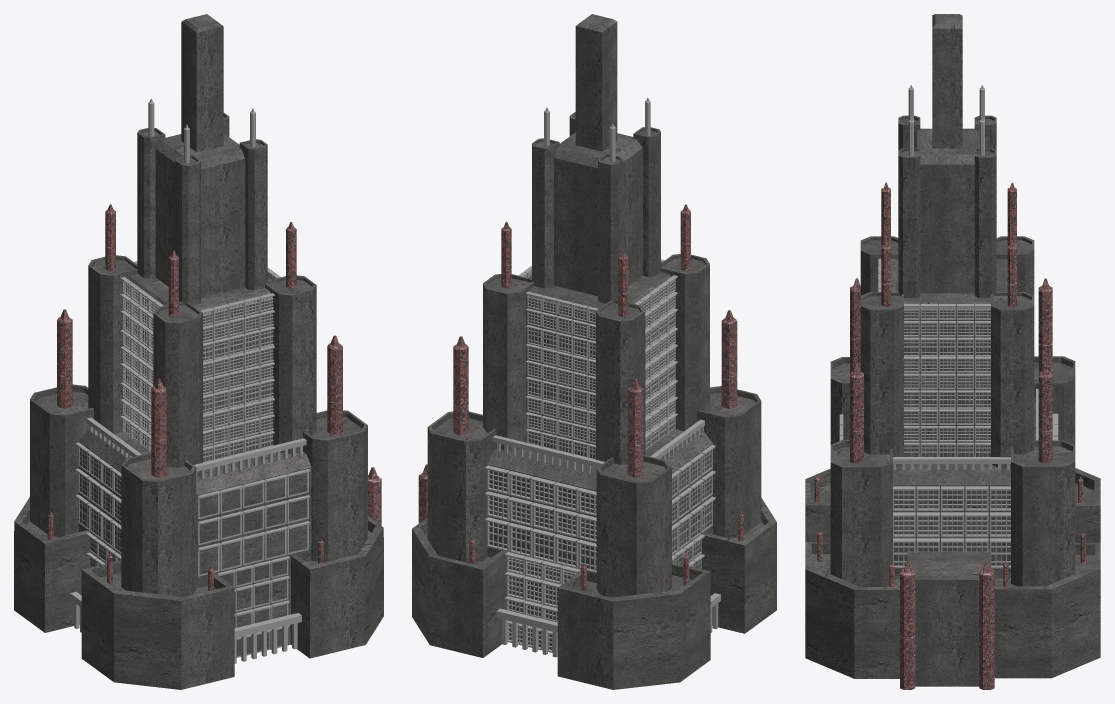
File: Kruchevka.fbx
The picture shows the model from 3 angles, left to right: view 1: azimuth 30°, elevation 25°; view 2: azimuth 150°, elevation 25°; view 3: azimuth 270°, elevation 25°; orthographic projection.
Parts seen in each view (by area): view 1: WORKERS_KRUCHEVKA; view 2: WORKERS_KRUCHEVKA; view 3: WORKERS_KRUCHEVKA.
Boxes of the visible parts, x1=… form: WORKERS_KRUCHEVKA: x1=14, y1=14, x2=383, y2=689; WORKERS_KRUCHEVKA: x1=412, y1=14, x2=776, y2=689; WORKERS_KRUCHEVKA: x1=805, y1=14, x2=1100, y2=689.
Size of the model in its own units: 2320 by 4487 by 2023.
